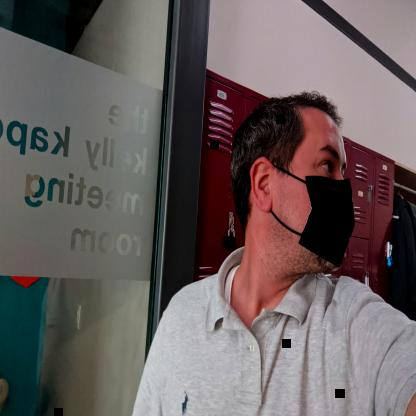mask: (261, 118, 357, 272)
